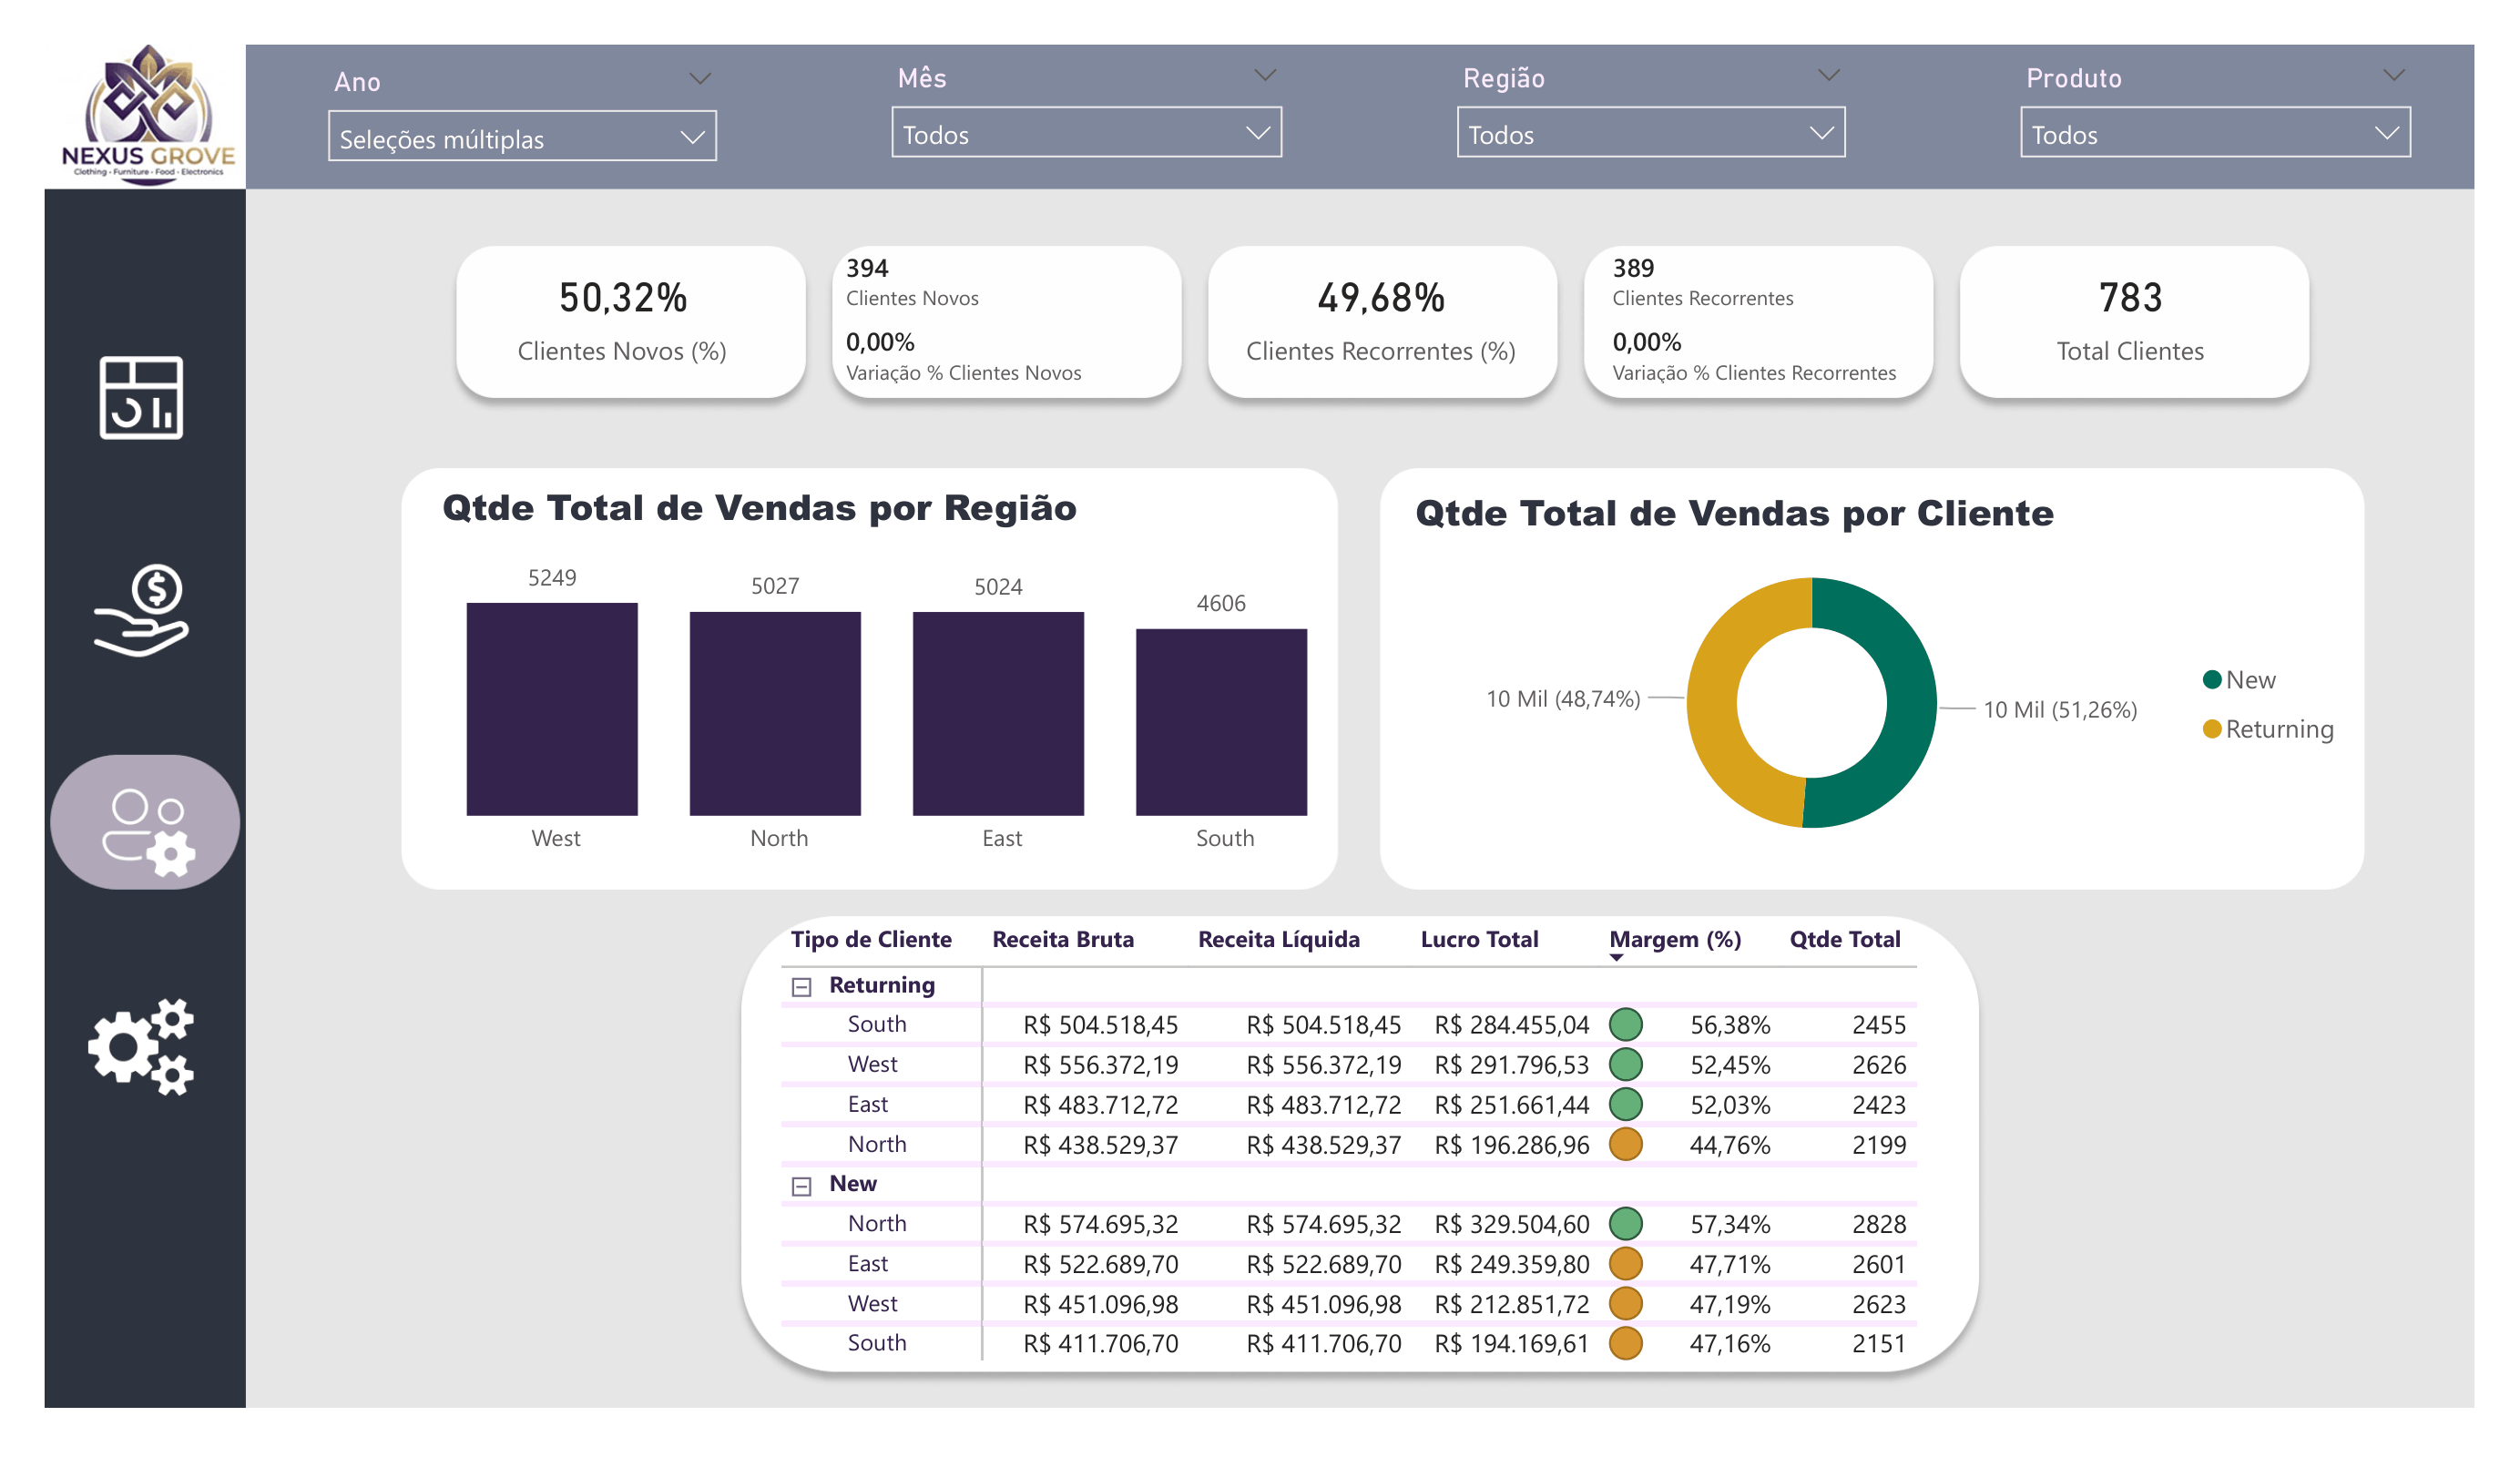

What the dashboard file says about the page in this screenshot:
{"tool":"powerbi","page":{"name":"Clientes","canvas":[1280,720],"ordinal":2},"visuals":[{"type":"card","fields":{"Values":["Medidas.15 Clientes Novos (%)"]},"box":[204.3,101,200,80],"z":0},{"type":"card","fields":{"Values":["Medidas.16 Clientes Recorrentes (%)"]},"box":[604.3,101,200,80],"z":1000},{"type":"cardVisual","fields":{"Data":["Medidas.12 Clientes Novos","Medidas.23 Variação % Clientes Novos"]},"box":[417.1,102.9,222.9,80],"z":2000},{"type":"card","fields":{"Values":["Medidas.14 Total Clientes"]},"box":[998.6,101.4,200,80],"z":3000},{"type":"clusteredColumnChart","fields":{"Category":["vendas.Region"],"Y":["Medidas.06 Quantidade Total"]},"box":[170,257.1,551.4,178.6],"z":4000},{"type":"donutChart","fields":{"Category":["vendas.Customer_Type"],"Y":["Medidas.06 Quantidade Total"]},"box":[721.4,257.1,500,178.6],"z":5000},{"type":"pivotTable","fields":{"Values":["Medidas.01 Receita Bruta","Medidas.02 Receita Líquida","Medidas.04 Lucro Total","Medidas.05 Margem (%)","Medidas.06 Quantidade Total"],"Rows":["vendas.Customer_Type","vendas.Region"]},"box":[383.3,456.7,636.7,243.3],"z":6000},{"type":"textbox","box":[204.3,224.3,481.4,40],"z":7000},{"type":"textbox","box":[717.1,227.1,481.4,40],"z":8000},{"type":"actionButton","box":[0,153.3,103.3,60],"z":9000},{"type":"actionButton","box":[0,266.7,103.3,60],"z":10000},{"type":"actionButton","box":[0,493.3,103.3,66.7],"z":11000},{"type":"slicer","fields":{"Values":["dCalendario.Ano"]},"box":[138.8,6,225.4,65.7],"z":12000},{"type":"slicer","fields":{"Values":["dCalendario.Nome do Mês"]},"box":[436.3,4.5,225.4,65.7],"z":13000},{"type":"slicer","fields":{"Values":["vendas.Region"]},"box":[733.8,4.5,225.4,65.7],"z":14000},{"type":"slicer","fields":{"Values":["vendas.Product_Category"]},"box":[1031.3,4.5,225.4,65.7],"z":15000},{"type":"cardVisual","fields":{"Data":["Medidas.13 Clientes Recorrentes","Medidas.24 Variação % Clientes Recorrentes"]},"box":[821.4,102.9,222.9,80],"z":16000}]}

Visuals, with their boxes on the page's 1280x720 design canvas (x1, y1, x2, y2). These are canvas units, not pixel positions in the 2520x1457 screenshot, which may show the page scaled, cropped or inside an application window:
card - Medidas.15 Clientes Novos (%): [left=204, top=101, right=404, bottom=181]
card - Medidas.16 Clientes Recorrentes (%): [left=604, top=101, right=804, bottom=181]
cardVisual - Medidas.12 Clientes Novos x Medidas.23 Variação % Clientes Novos: [left=417, top=103, right=640, bottom=183]
card - Medidas.14 Total Clientes: [left=999, top=101, right=1199, bottom=181]
clusteredColumnChart - vendas.Region x Medidas.06 Quantidade Total: [left=170, top=257, right=721, bottom=436]
donutChart - vendas.Customer_Type x Medidas.06 Quantidade Total: [left=721, top=257, right=1221, bottom=436]
pivotTable - Medidas.01 Receita Bruta x Medidas.02 Receita Líquida: [left=383, top=457, right=1020, bottom=700]
textbox: [left=204, top=224, right=686, bottom=264]
textbox: [left=717, top=227, right=1198, bottom=267]
actionButton: [left=0, top=153, right=103, bottom=213]
actionButton: [left=0, top=267, right=103, bottom=327]
actionButton: [left=0, top=493, right=103, bottom=560]
slicer - dCalendario.Ano: [left=139, top=6, right=364, bottom=72]
slicer - dCalendario.Nome do Mês: [left=436, top=4, right=662, bottom=70]
slicer - vendas.Region: [left=734, top=4, right=959, bottom=70]
slicer - vendas.Product_Category: [left=1031, top=4, right=1257, bottom=70]
cardVisual - Medidas.13 Clientes Recorrentes x Medidas.24 Variação % Clientes Recorrentes: [left=821, top=103, right=1044, bottom=183]
